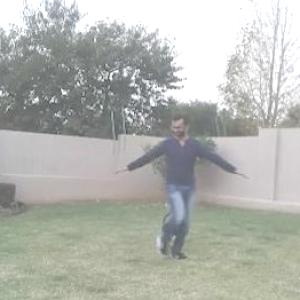land: (122, 119, 232, 247)
